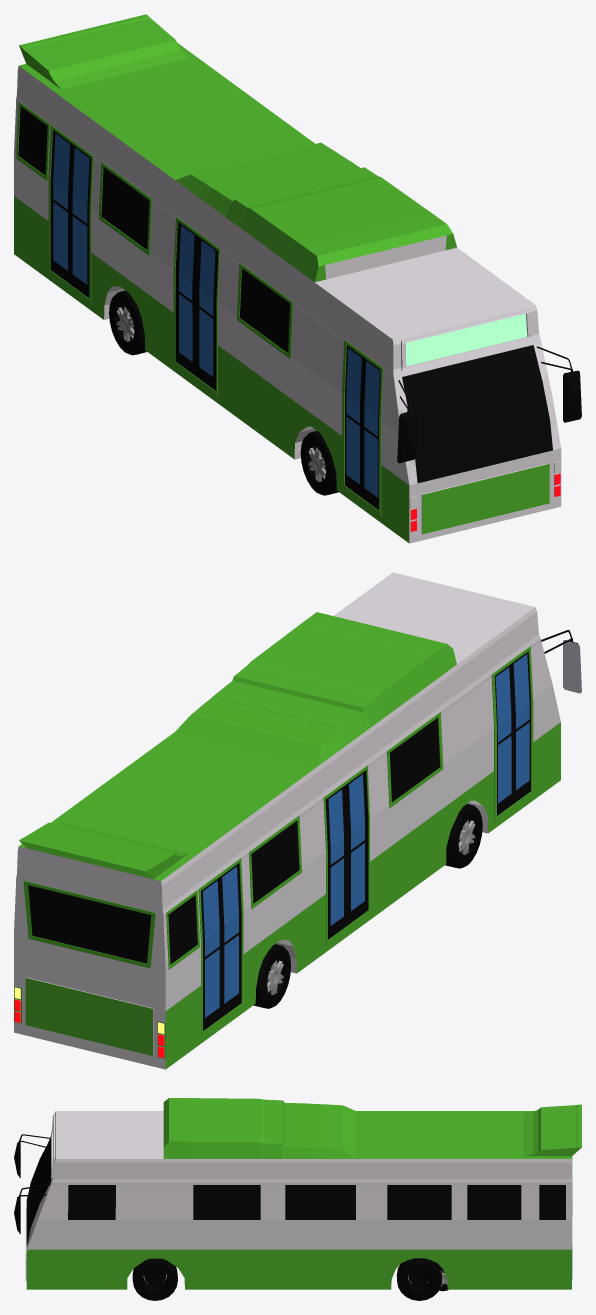
File: BondiVerde.fbx
3 views of the same model, one above another, from view 1: azimuth 30°, elevation 25°; view 2: azimuth 150°, elevation 25°; view 3: azimuth 270°, elevation 25° (orthographic). The views are drawn at different scales.
Visible parts, largest first — view 1: Cube.5718, Bus.005, Wheel_E.045, Wheel_E.046; view 2: Cube.5718, Wheel_E.046, Wheel_E.045, Bus.005; view 3: Cube.5718, Wheel_E.047, Wheel_E.048, Bus.005.
Boxes of the visible parts, bbox=[...] form: Cube.5718: bbox=[14, 14, 561, 543]; Bus.005: bbox=[397, 346, 581, 463]; Wheel_E.045: bbox=[109, 290, 146, 355]; Wheel_E.046: bbox=[300, 431, 338, 495]; Cube.5718: bbox=[14, 572, 560, 1069]; Wheel_E.046: bbox=[445, 804, 482, 868]; Wheel_E.045: bbox=[253, 944, 290, 1008]; Bus.005: bbox=[541, 630, 581, 693]; Cube.5718: bbox=[25, 1098, 581, 1289]; Wheel_E.047: bbox=[396, 1258, 442, 1300]; Wheel_E.048: bbox=[132, 1258, 177, 1300]; Bus.005: bbox=[14, 1134, 50, 1234].
Bounding box in the file's own units: 353 × 417 × 1364.
